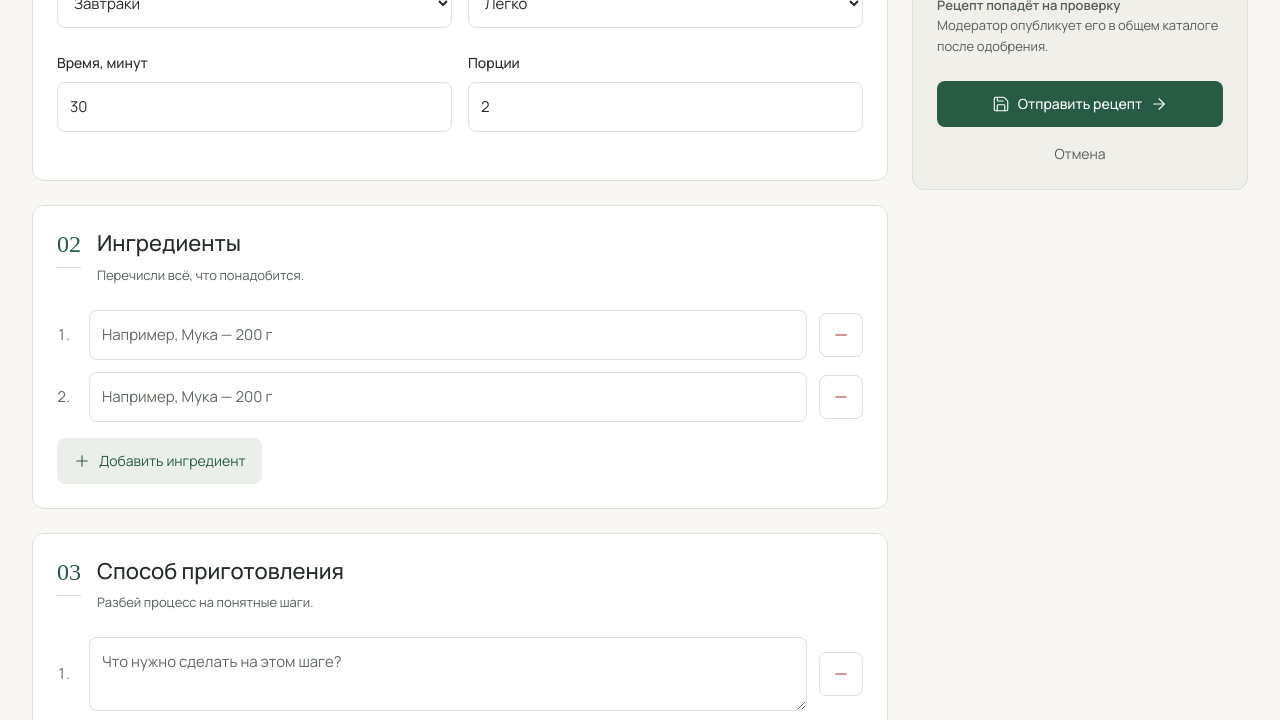
Scenario: динамически добавляет ингредиенты и шаги
(page scrolled)
What coordinates should you click on to do the following:
click the button "Добавить ингредиент"
I would click on:
 (159, 461)
Its box is [57,438,262,484].
(page scrolled)
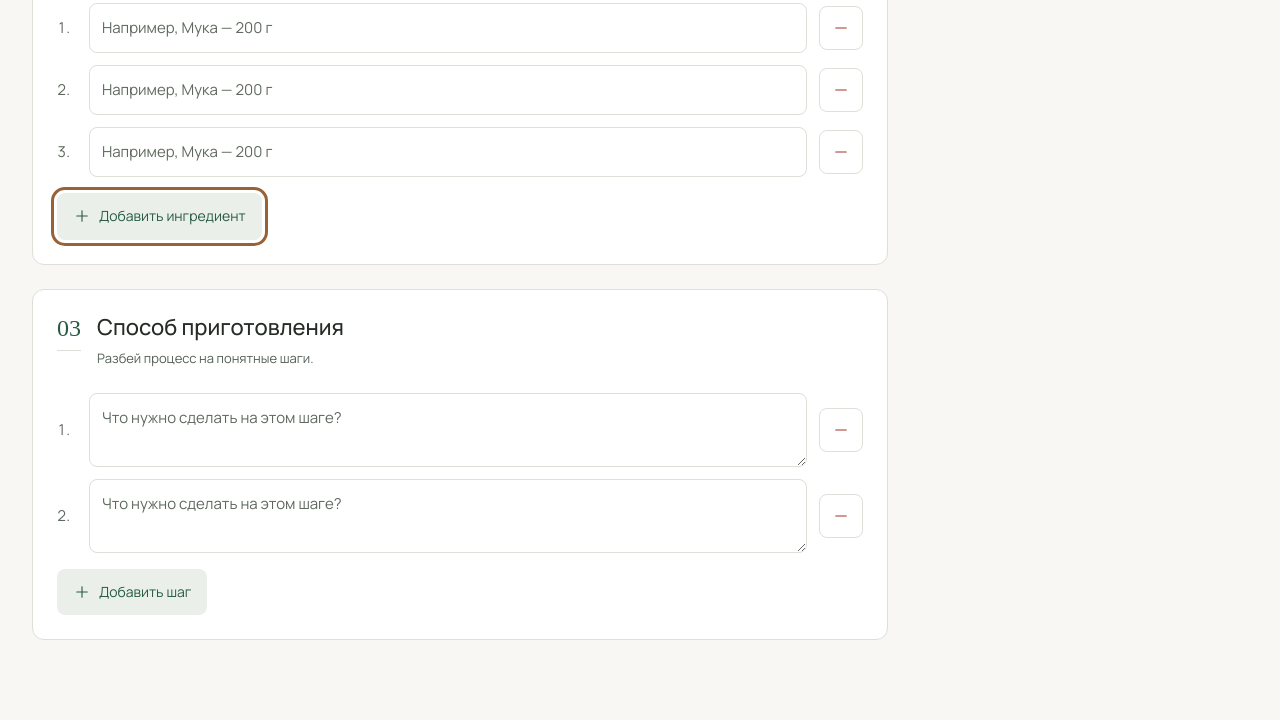
What coordinates should you click on to do the following:
click the button "Добавить шаг"
I would click on:
 (132, 592)
Its box is [57,569,207,615].
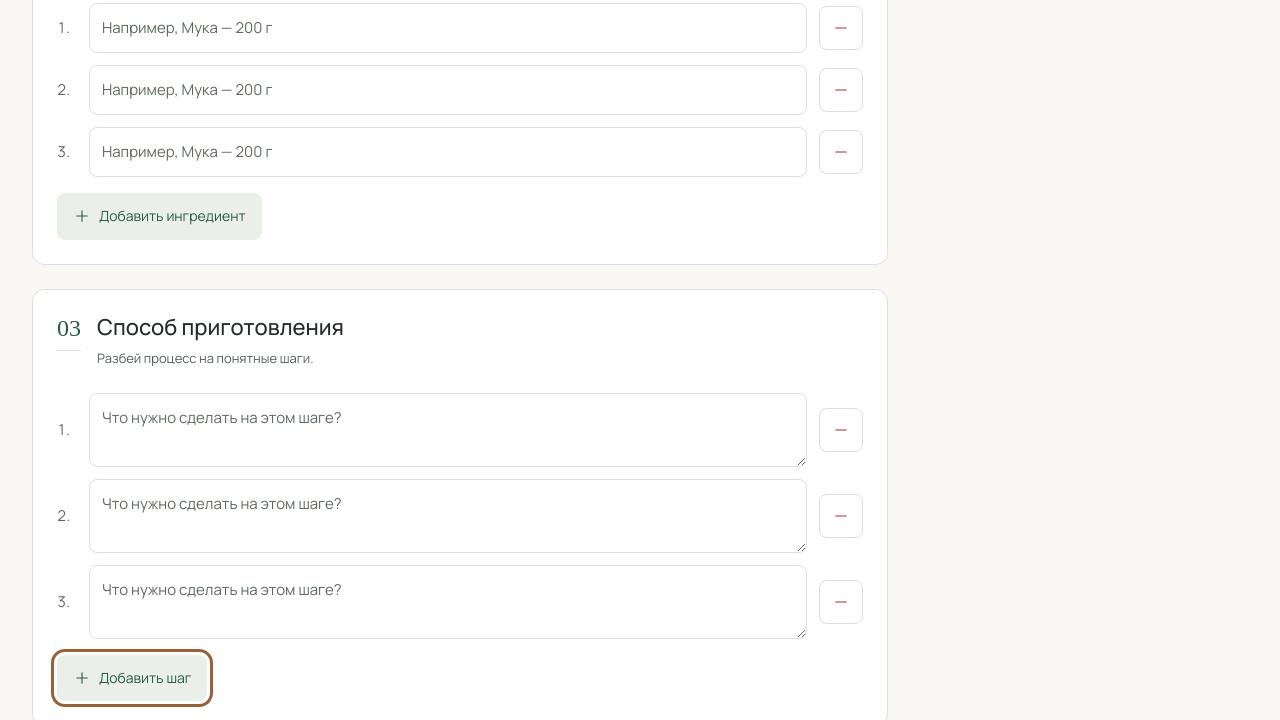
Result: the number of fields labelled "Например, Мука — 200 г" is 3 at [89,3,807,53]; [89,65,807,115]; [89,127,807,177]
Result: the number of text boxes labelled "Что нужно сделать на этом шаге?" is 3 at [89,393,807,467]; [89,479,807,553]; [89,565,807,639]
